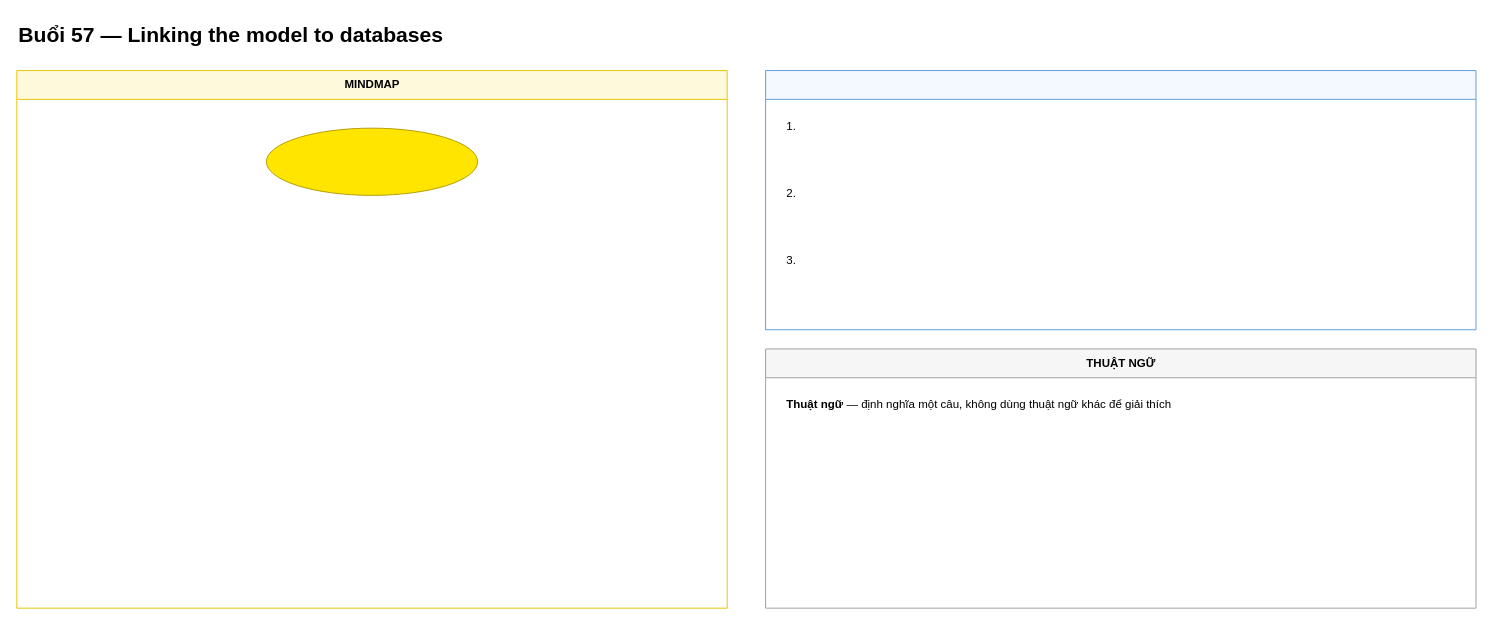
Image size: 1493x625. Some labels were removed from this diagram. The shapes that lost their labels are listed below. From the top down, each one's box as (x1, y1, x2, y2) in pixels, then its label:
(265, 127, 478, 195): Linking the model to databases
(765, 70, 1476, 330): KEY TAKEAWAY — ba điều phải nhớ
